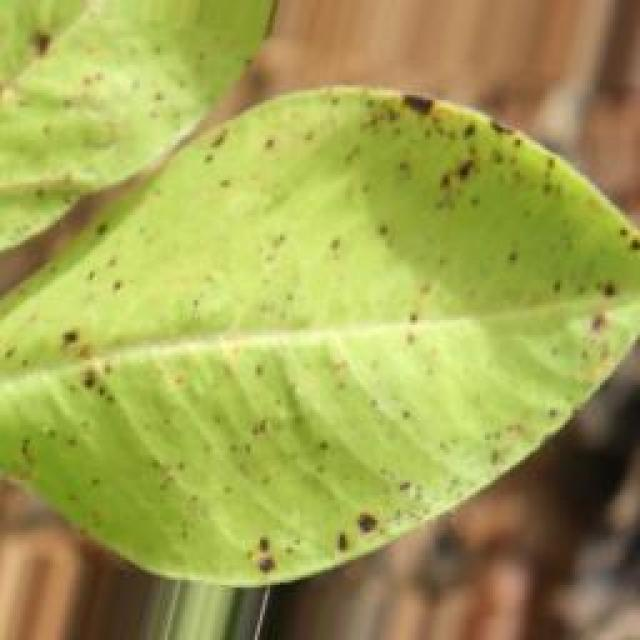Yellowish: (0, 14, 640, 572)
